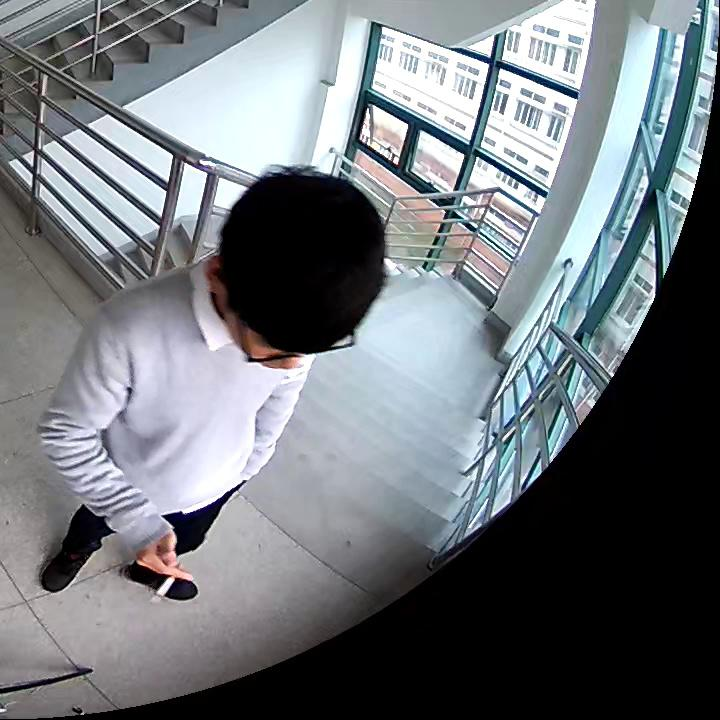handsmoke: (139, 522, 195, 606)
mouthwithoutsmoke: (207, 160, 389, 375)
